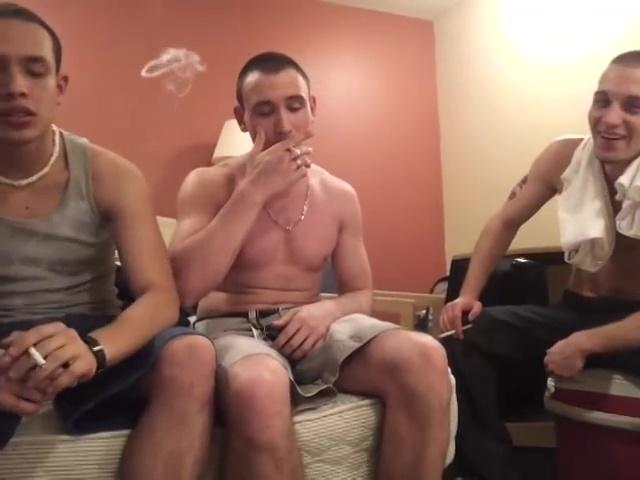cigarette: (25, 342, 50, 371), (437, 323, 475, 338), (289, 146, 304, 156)
